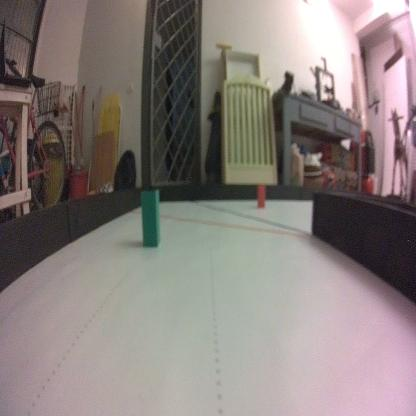green: (139, 185, 161, 249)
red: (257, 183, 266, 209)
